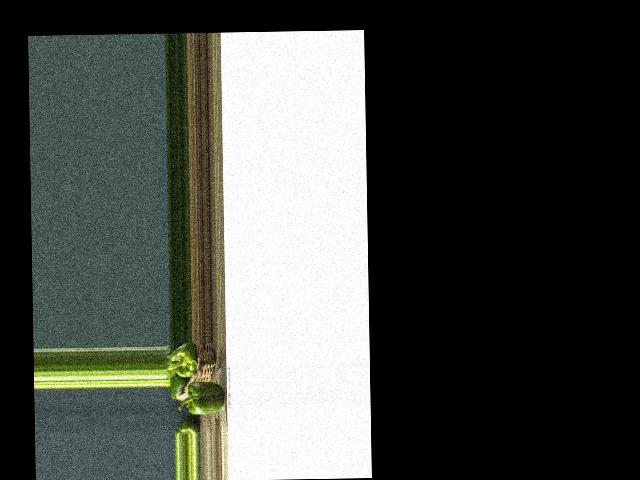bell_pepper: (175, 421, 195, 435)
